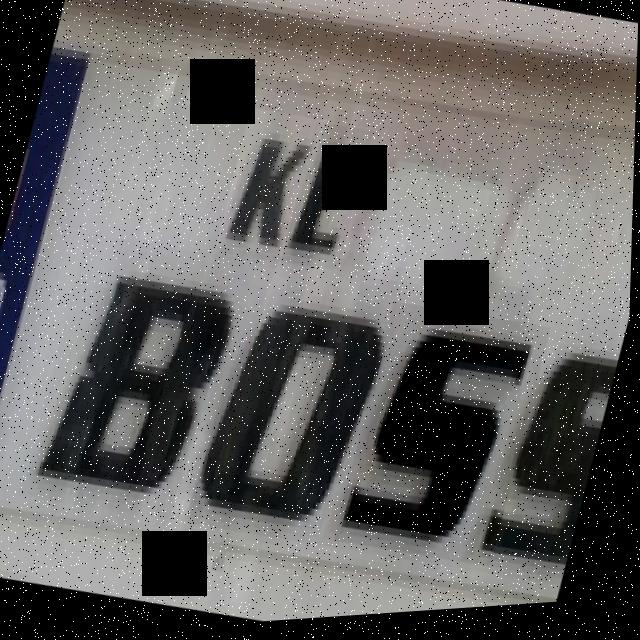0: (183, 291, 403, 545)
B: (25, 241, 254, 510)
K: (218, 115, 324, 259)
L: (282, 129, 373, 270)
S: (336, 314, 552, 562)
